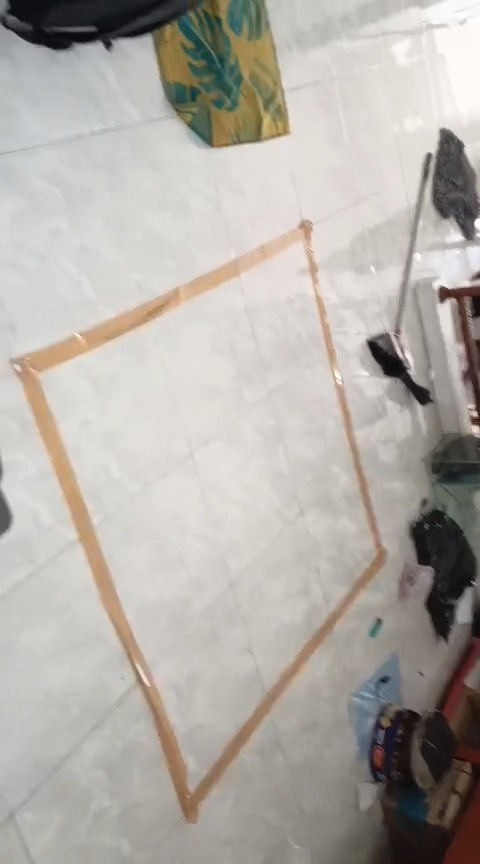floor marking: (11, 220, 385, 822)
